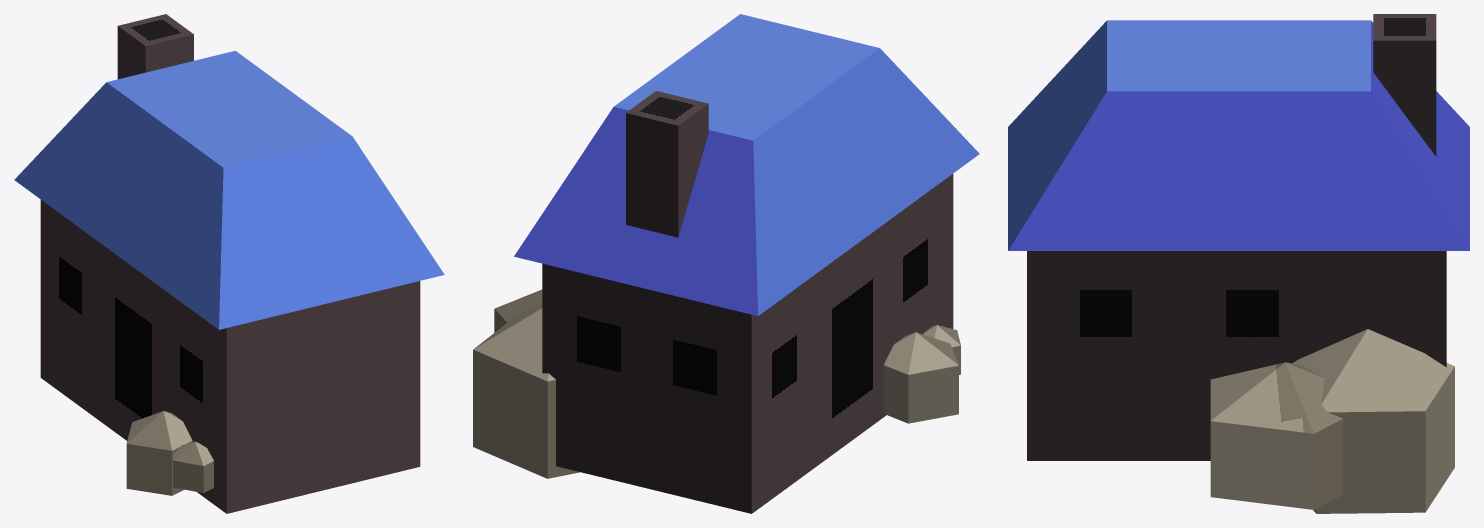
File: mountain_house_1.gltf
The picture shows the model from 3 angles, left to right: view 1: azimuth 30°, elevation 25°; view 2: azimuth 150°, elevation 25°; view 3: azimuth 270°, elevation 25°; orthographic projection. The views are drawn at different scales.
Parts seen in each view (by area): view 1: Mountain_house_1, sphere (×2); view 2: Mountain_house_1, sphere (×4); view 3: Mountain_house_1, sphere (×2).
Part boxes in pixels (<box>): Mountain_house_1: <box>14,14,444,513</box>; sphere (×2): <box>126,411,213,495</box>; Mountain_house_1: <box>514,14,979,513</box>; sphere (×4): <box>473,289,960,478</box>; Mountain_house_1: <box>1008,14,1469,460</box>; sphere (×2): <box>1210,329,1454,513</box>.
Size of the model in its own units: 0.6769 by 0.6437 by 0.6875.
1 material, 1 textured.
